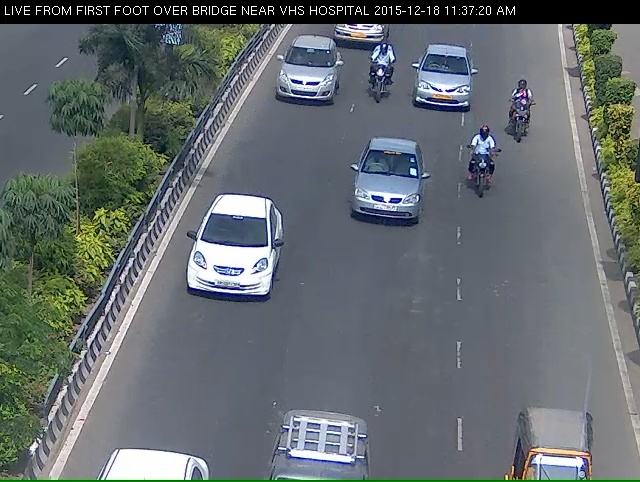Car: (336, 149, 433, 264), (199, 208, 280, 332), (506, 415, 615, 479), (398, 57, 494, 127), (264, 46, 340, 117)
Person: (503, 87, 544, 154), (463, 142, 497, 222), (364, 51, 395, 119)
